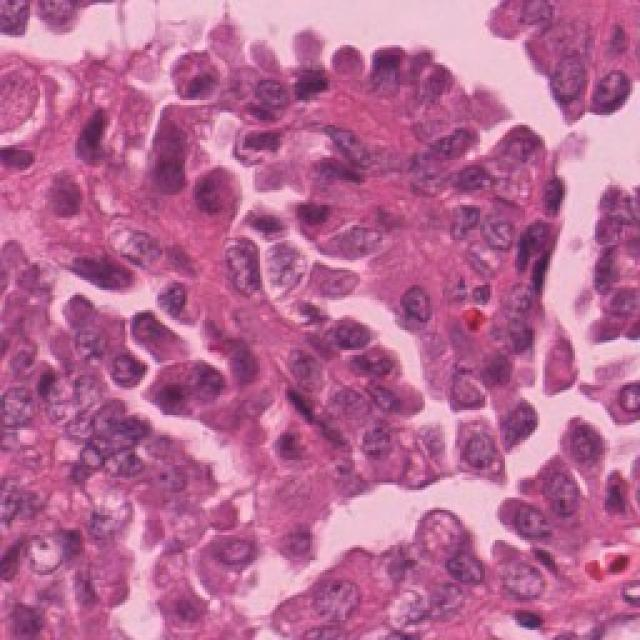abnormal: (464, 539, 574, 624), (395, 491, 482, 596), (16, 491, 102, 595), (99, 208, 198, 288), (335, 406, 420, 496), (518, 422, 585, 533), (148, 351, 228, 439), (68, 464, 143, 556), (183, 151, 249, 251), (427, 408, 505, 492), (126, 108, 188, 200), (45, 154, 102, 254), (453, 191, 527, 268), (247, 232, 316, 312), (306, 568, 382, 640), (312, 212, 401, 272), (359, 28, 417, 112), (584, 47, 640, 133), (160, 41, 232, 107), (85, 324, 150, 397), (352, 346, 418, 416), (72, 388, 135, 460), (551, 37, 601, 125), (299, 255, 376, 308), (382, 572, 433, 639), (589, 376, 640, 438), (395, 259, 432, 344), (339, 308, 370, 383)
